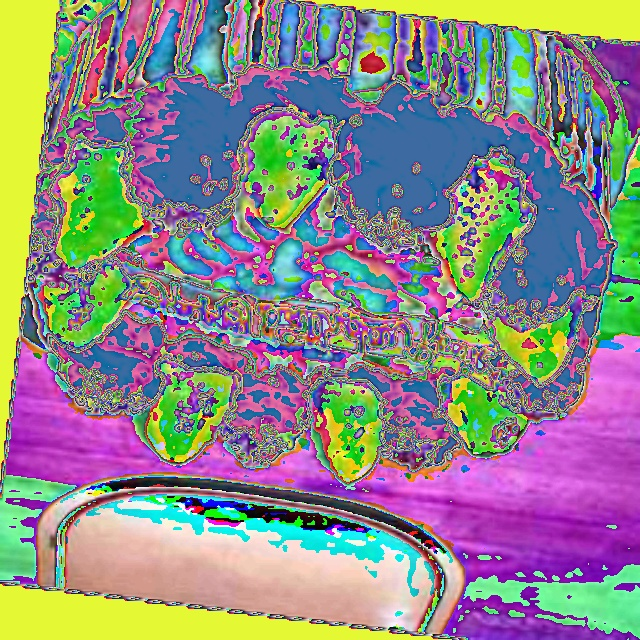background: (20, 0, 632, 488)
